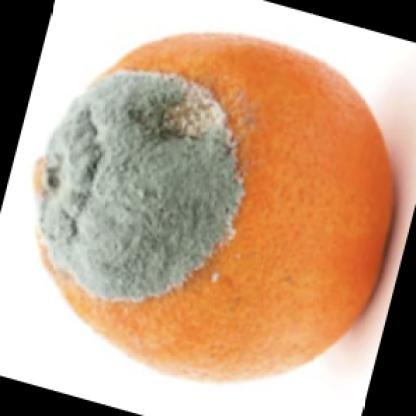rotten: (35, 30, 398, 385)
